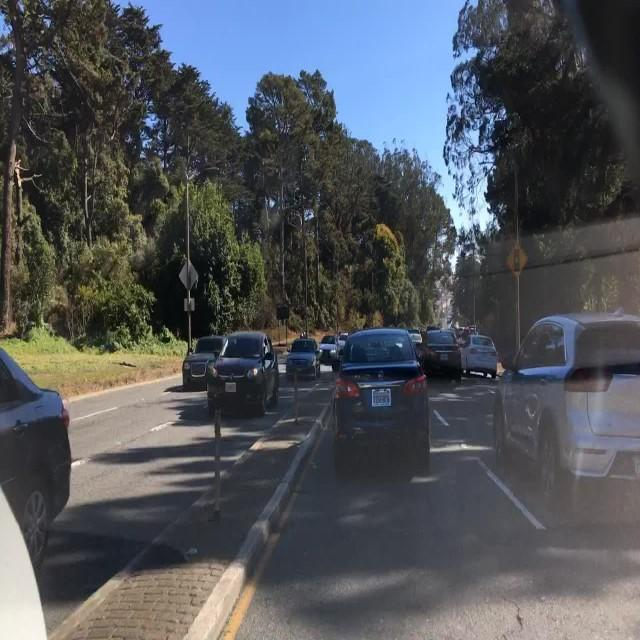normal: (316, 330, 497, 472), (178, 330, 282, 420)
